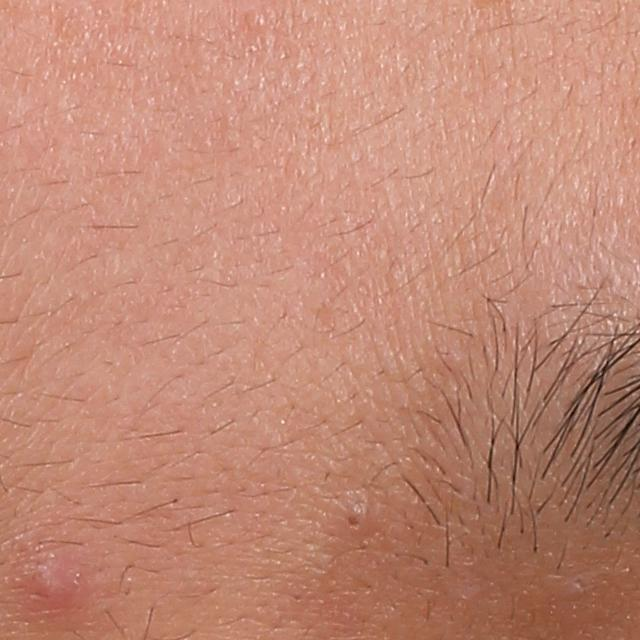comedo: (330, 497, 378, 538)
papule: (11, 538, 93, 612)
